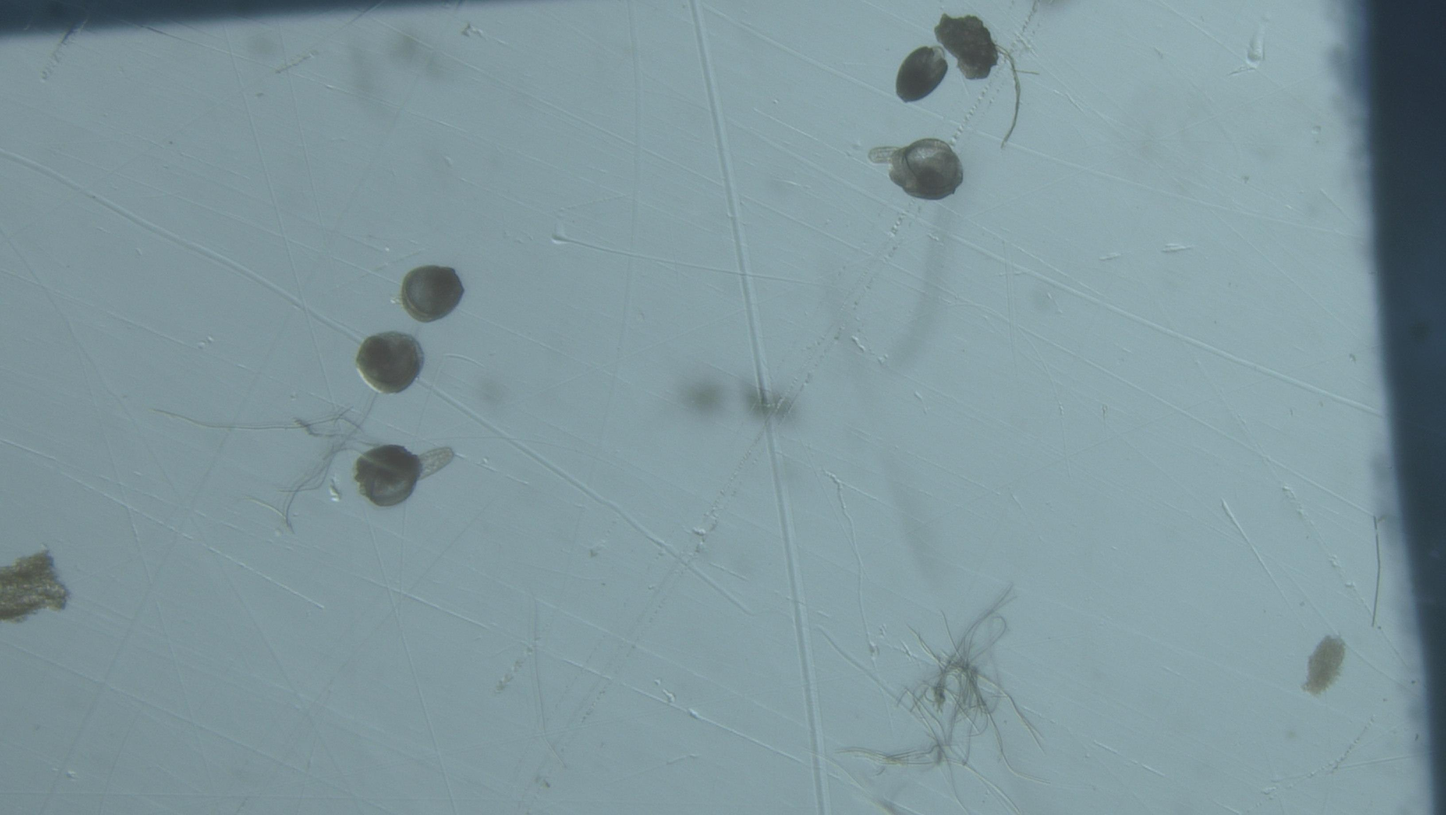live: (887, 139, 963, 200), (356, 332, 424, 394), (354, 446, 422, 507), (400, 265, 464, 323), (896, 46, 949, 103)
